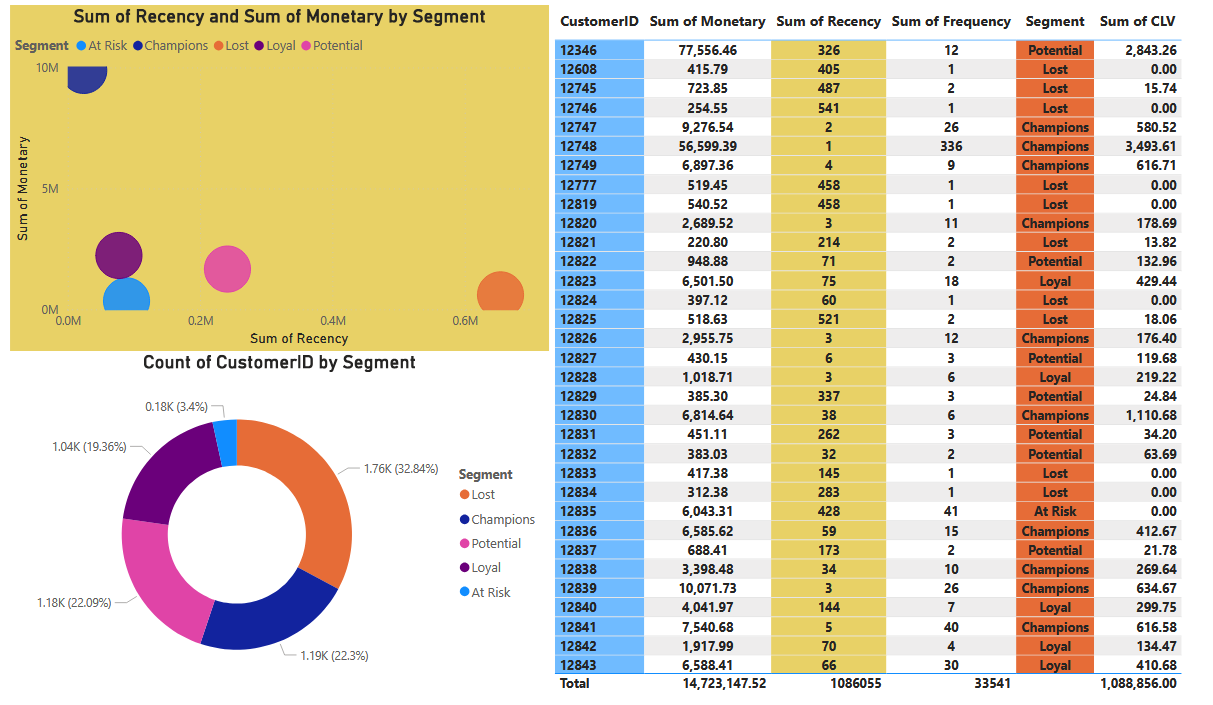

What the dashboard file says about the page in this screenshot:
{"tool":"powerbi","page":{"name":"RFM Analysis","canvas":[1280,720],"ordinal":1},"visuals":[{"type":"scatterChart","fields":{"X":["Sum(rfm_clv_output.Recency)"],"Y":["Sum(rfm_clv_output.Monetary)"],"Series":["rfm_clv_output.Segment"]},"box":[0,0,560.5,360],"z":0},{"type":"donutChart","fields":{"Y":["CountNonNull(rfm_clv_output.CustomerID)"],"Category":["rfm_clv_output.Segment"]},"box":[0,360,560.5,360],"z":1000},{"type":"tableEx","fields":{"Values":["rfm_clv_output.CustomerID","Sum(rfm_clv_output.Monetary)","Sum(rfm_clv_output.Recency)","Sum(rfm_clv_output.Frequency)","rfm_clv_output.Segment","Sum(rfm_clv_output.CLV)"]},"box":[560.5,0,720,720],"z":2000}]}

Visuals, with their boxes on the page's 1280x720 design canvas (x1, y1, x2, y2). These are canvas units, not pixel positions in the 1213x705 screenshot, which may show the page scaled, cropped or inside an application window:
scatterChart - Sum(rfm_clv_output.Recency) x Sum(rfm_clv_output.Monetary): BBox(0, 0, 560, 360)
donutChart - CountNonNull(rfm_clv_output.CustomerID) x rfm_clv_output.Segment: BBox(0, 360, 560, 720)
tableEx - rfm_clv_output.CustomerID x Sum(rfm_clv_output.Monetary): BBox(560, 0, 1280, 720)
